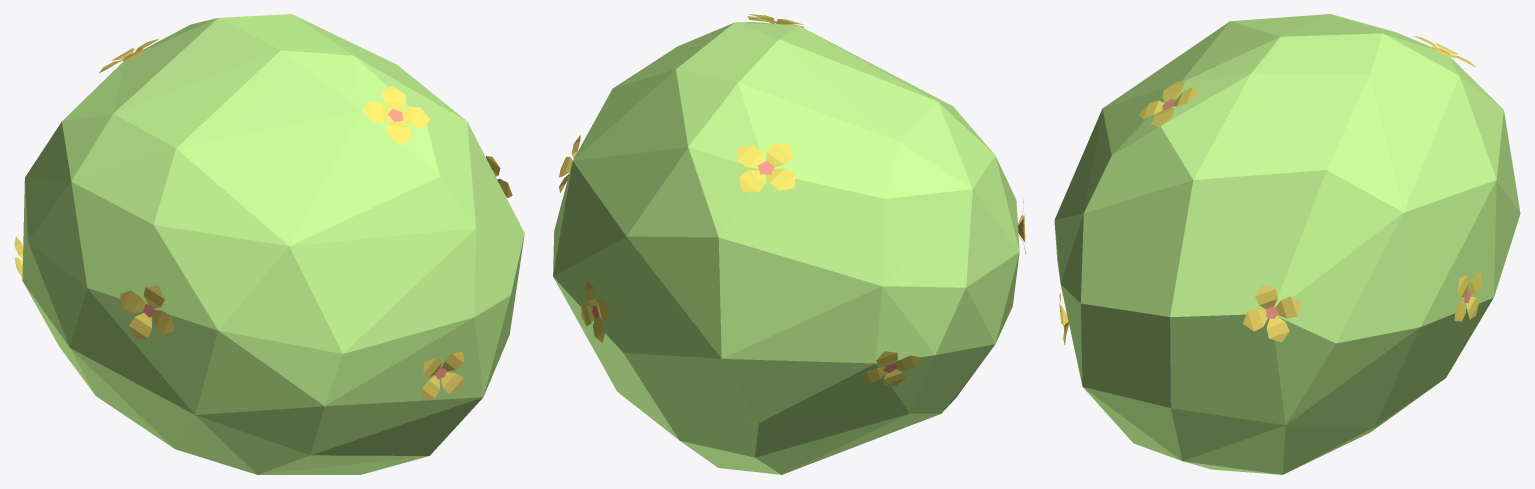
Rendered from FlowerBush_a_l_03.fbx.
3 renders of one model, left to right at view 1: azimuth 30°, elevation 25°; view 2: azimuth 150°, elevation 25°; view 3: azimuth 270°, elevation 25°, orthographic. The views are drawn at different scales.
Parts seen in each view (by area): view 1: FlowerBush_a_l_03; view 2: FlowerBush_a_l_03; view 3: FlowerBush_a_l_03.
Boxes of the visible parts, x1,y1,x2,y2 form: FlowerBush_a_l_03: (14, 14, 524, 474); FlowerBush_a_l_03: (553, 14, 1025, 474); FlowerBush_a_l_03: (1054, 14, 1520, 474).
Size of the model in its own units: 307 by 280 by 287.
